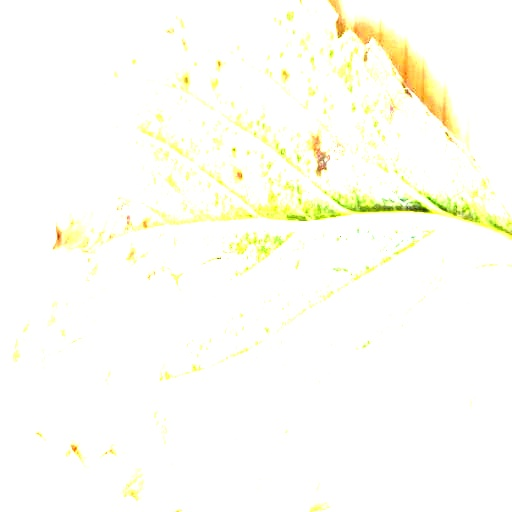Angular Leafspot: (8, 0, 511, 511)
